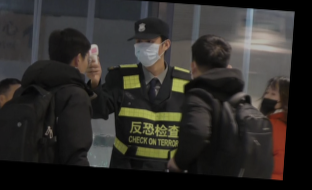with_mask: (131, 38, 161, 68), (259, 87, 279, 115)
